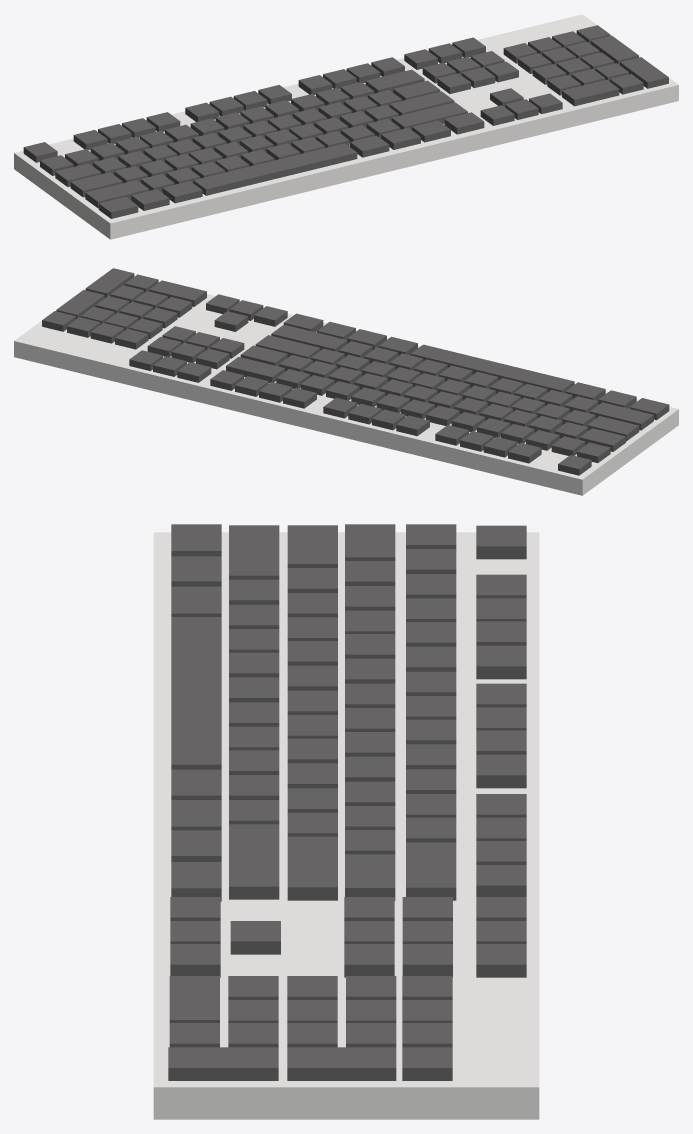
The model's file is Keyboard_1.fbx.
3 views of the same model, one above another, from view 1: azimuth 30°, elevation 25°; view 2: azimuth 150°, elevation 25°; view 3: azimuth 270°, elevation 25° (orthographic). The views are drawn at different scales.
Visible parts, largest first — view 1: Keyboard_1; view 2: Keyboard_1; view 3: Keyboard_1.
Part boxes in pixels (x1,y1,x2,y2): Keyboard_1: [14, 14, 678, 239]; Keyboard_1: [14, 268, 678, 495]; Keyboard_1: [153, 524, 539, 1119].
Size of the model in its own units: 64.7 by 19.01 by 2.47.
